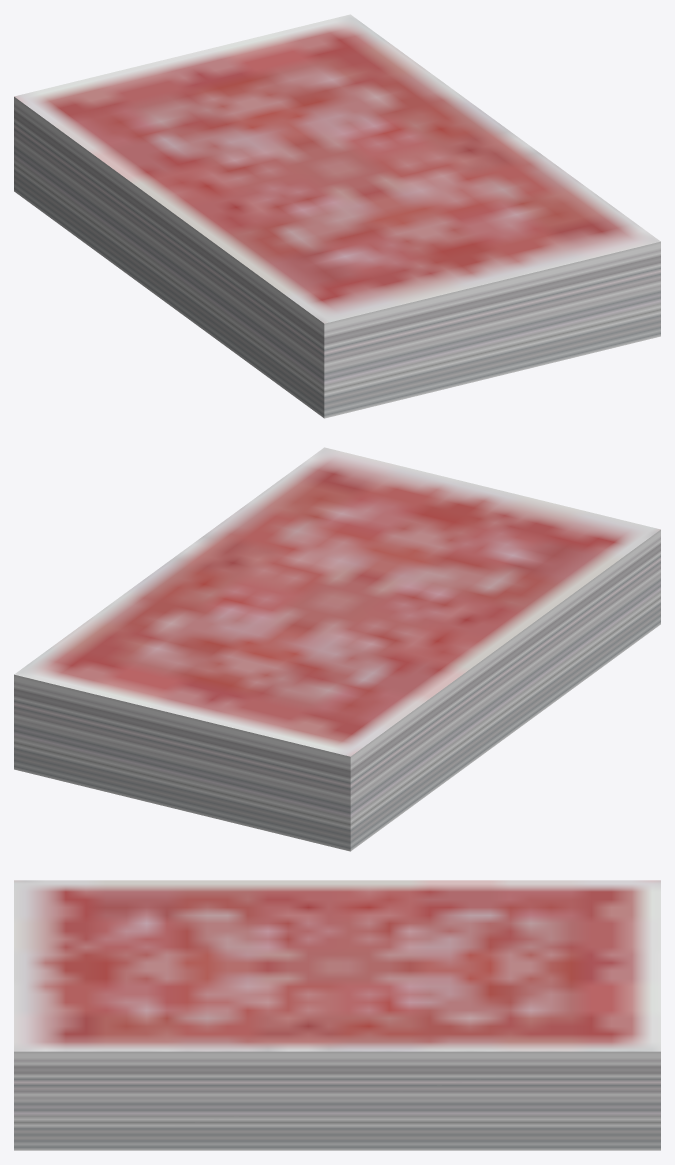
Rendered from deck.fbx.
3 views of the same model, one above another, from view 1: azimuth 30°, elevation 25°; view 2: azimuth 150°, elevation 25°; view 3: azimuth 270°, elevation 25° (orthographic). The views are drawn at different scales.
Visible parts, largest first — view 1: mesh_0; view 2: mesh_0; view 3: mesh_0.
Boxes of the visible parts, x1,y1,x2,y2 form: mesh_0: [14, 14, 660, 418]; mesh_0: [14, 447, 660, 851]; mesh_0: [14, 880, 660, 1150].
Size of the model in its own units: 8.78 by 2.37 by 14.03.
Materials: 1 (1 with a texture image).
